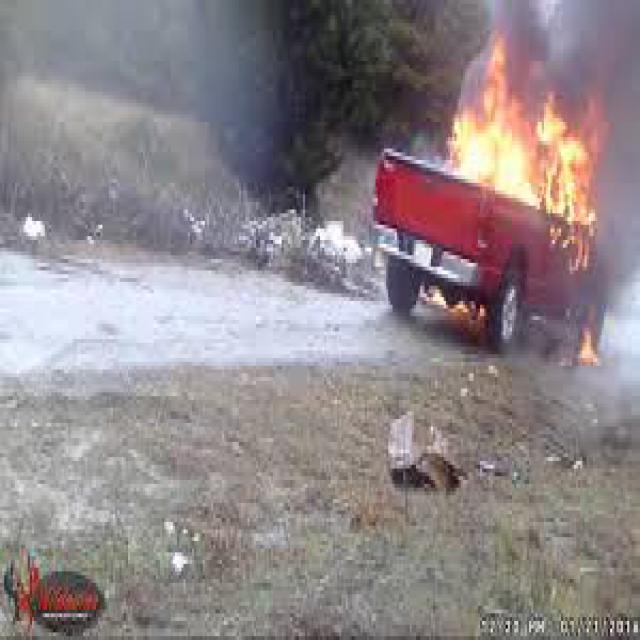fire: (441, 43, 611, 271)
